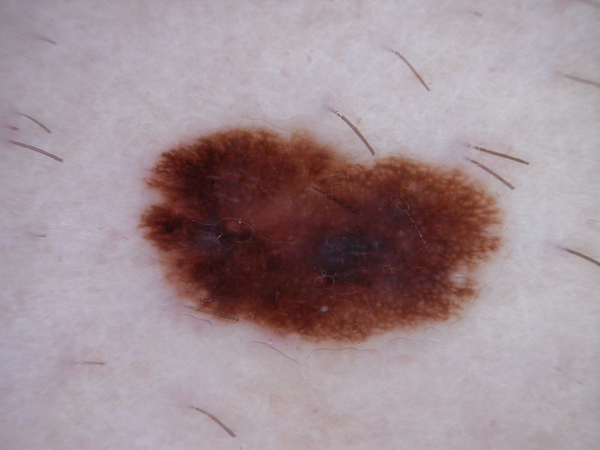Detected Lesion: (137, 114, 508, 348)
